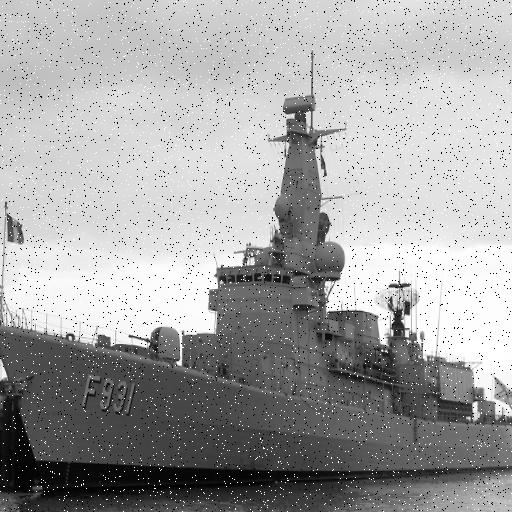Fragata: (1, 47, 512, 499)
